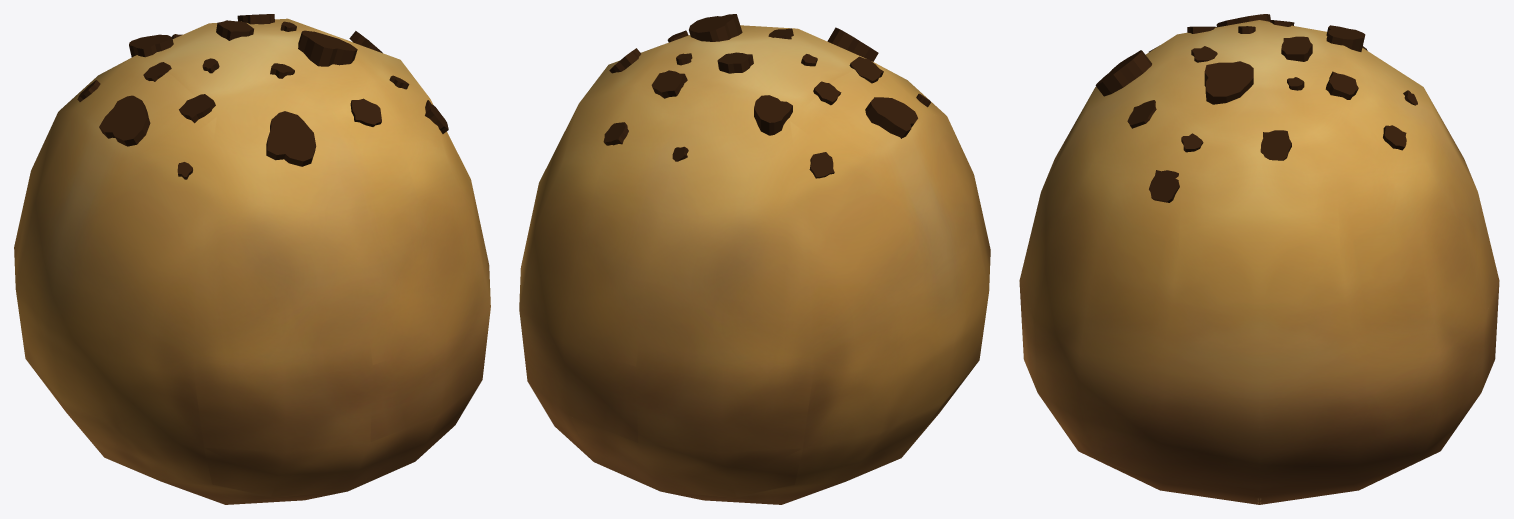
File: BalLCookie.fbx
3 renders of one model, left to right at view 1: azimuth 30°, elevation 25°; view 2: azimuth 150°, elevation 25°; view 3: azimuth 270°, elevation 25°, orthographic.
Parts seen in each view (by area): view 1: Round, Chunks; view 2: Round, Chunks; view 3: Round, Chunks.
Boxes of the visible parts, box(x1,y1,x2,y2) form: Round: box(14, 18, 490, 504); Chunks: box(77, 14, 448, 179); Round: box(519, 25, 990, 504); Chunks: box(603, 14, 930, 178); Round: box(1019, 20, 1499, 504); Chunks: box(1095, 14, 1417, 202).
Bounding box in the file's own units: 180 × 185 × 184.
2 materials, 1 textured.
